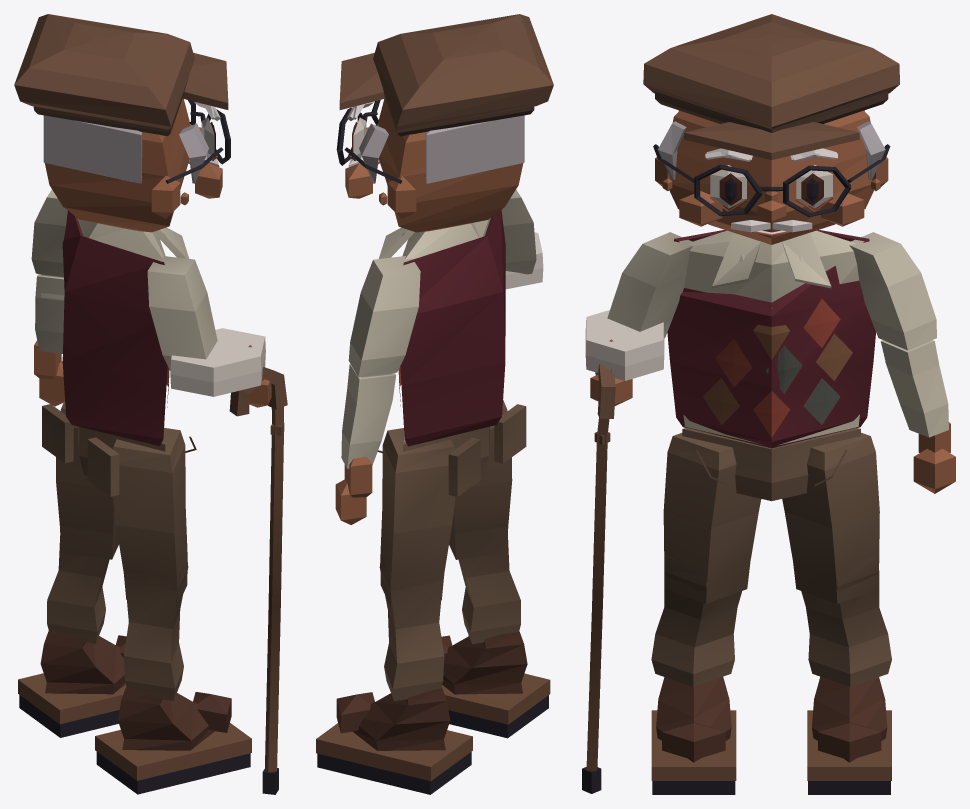
3 views of the same model, side by side, from view 1: azimuth 30°, elevation 25°; view 2: azimuth 150°, elevation 25°; view 3: azimuth 270°, elevation 25° (orthographic).
Visible parts, largest first — view 1: head_pal_picketWhite, torso_pal_picketWhite, footR_pal_picketWhite, legR_pal_picketWhite, footL_pal_picketWhite, handR_pal_picketWhite, shinR_pal_picketWhite, armR_pal_picketWhite, legL_pal_picketWhite, foreArmR_pal_picketWhite, shinL_pal_picketWhite, hip_pal_picketWhite (+3 smaller); view 2: head_pal_picketWhite, torso_pal_picketWhite, footL_pal_picketWhite, legL_pal_picketWhite, footR_pal_picketWhite, armL_pal_picketWhite, shinL_pal_picketWhite, legR_pal_picketWhite, shinR_pal_picketWhite, hip_pal_picketWhite, foreArmL_pal_picketWhite, armR_pal_picketWhite (+2 smaller); view 3: head_pal_picketWhite, torso_pal_picketWhite, legR_pal_picketWhite, legL_pal_picketWhite, footR_pal_picketWhite, footL_pal_picketWhite, shinL_pal_picketWhite, shinR_pal_picketWhite, armL_pal_picketWhite, handR_pal_picketWhite, armR_pal_picketWhite, hip_pal_picketWhite (+3 smaller).
Boxes of the visible parts, x1,y1,x2,y2 form: head_pal_picketWhite: (14, 14, 230, 232); torso_pal_picketWhite: (62, 211, 189, 446); footR_pal_picketWhite: (95, 687, 251, 794); legR_pal_picketWhite: (112, 428, 187, 607); footL_pal_picketWhite: (18, 631, 126, 737); handR_pal_picketWhite: (229, 345, 287, 794); shinR_pal_picketWhite: (123, 557, 188, 700); armR_pal_picketWhite: (147, 256, 217, 370); legL_pal_picketWhite: (56, 400, 118, 559); foreArmR_pal_picketWhite: (170, 328, 265, 396); shinL_pal_picketWhite: (47, 536, 109, 643); hip_pal_picketWhite: (42, 404, 196, 496); head_pal_picketWhite: (336, 14, 553, 232); torso_pal_picketWhite: (378, 210, 505, 446); footL_pal_picketWhite: (316, 687, 472, 794); legL_pal_picketWhite: (380, 428, 455, 607); footR_pal_picketWhite: (441, 631, 550, 738); armL_pal_picketWhite: (348, 256, 420, 377); shinL_pal_picketWhite: (379, 557, 444, 701); legR_pal_picketWhite: (449, 400, 512, 559); shinR_pal_picketWhite: (458, 535, 520, 644); hip_pal_picketWhite: (377, 404, 526, 496); foreArmL_pal_picketWhite: (341, 364, 396, 468); armR_pal_picketWhite: (501, 189, 536, 274); head_pal_picketWhite: (643, 14, 899, 244); torso_pal_picketWhite: (667, 230, 875, 448); legR_pal_picketWhite: (663, 433, 761, 603); legL_pal_picketWhite: (782, 432, 879, 603); footR_pal_picketWhite: (651, 677, 736, 794); footL_pal_picketWhite: (807, 676, 891, 794); shinL_pal_picketWhite: (801, 556, 891, 686); shinR_pal_picketWhite: (651, 556, 741, 686); armL_pal_picketWhite: (849, 232, 936, 349); handR_pal_picketWhite: (582, 339, 632, 793); armR_pal_picketWhite: (607, 232, 692, 338); hip_pal_picketWhite: (682, 427, 860, 501).
Size of the model in its own units: 0.4377 by 1.39 by 0.6622.
